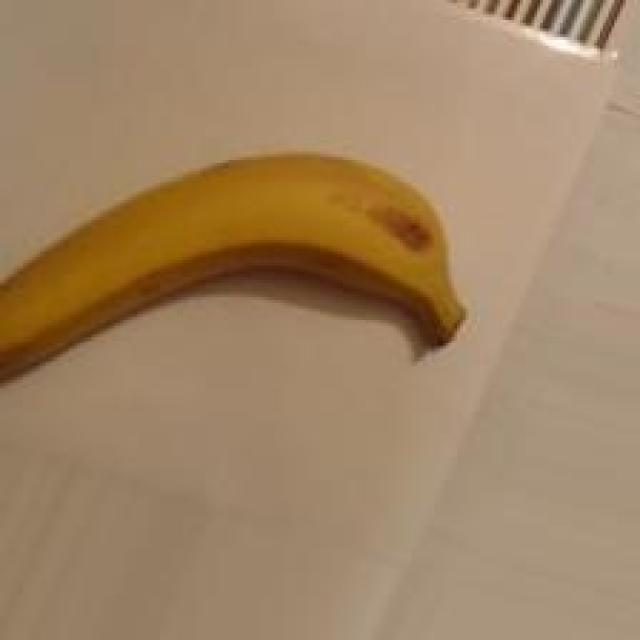bananas: (14, 128, 483, 414)
